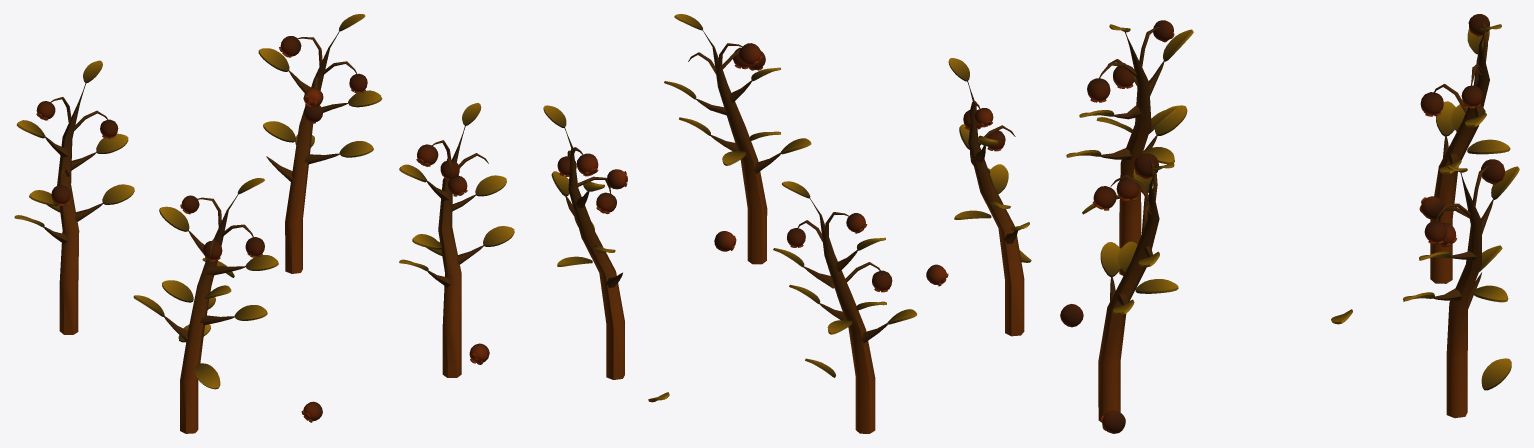
Rendered from Farm_Crop_Blueberry_Dead.fbx.
The picture shows the model from 3 angles, left to right: view 1: azimuth 30°, elevation 25°; view 2: azimuth 150°, elevation 25°; view 3: azimuth 270°, elevation 25°; orthographic projection. The views are drawn at different scales.
Visible parts, largest first — view 1: Farm_Crop_Blueberry_Dead; view 2: Farm_Crop_Blueberry_Dead; view 3: Farm_Crop_Blueberry_Dead.
Part boxes in pixels (bbox=[...]): Farm_Crop_Blueberry_Dead: bbox=[14, 14, 514, 433]; Farm_Crop_Blueberry_Dead: bbox=[543, 14, 1031, 433]; Farm_Crop_Blueberry_Dead: bbox=[1060, 14, 1519, 433].
Bounding box in the file's own units: 152 × 96.54 × 139.
